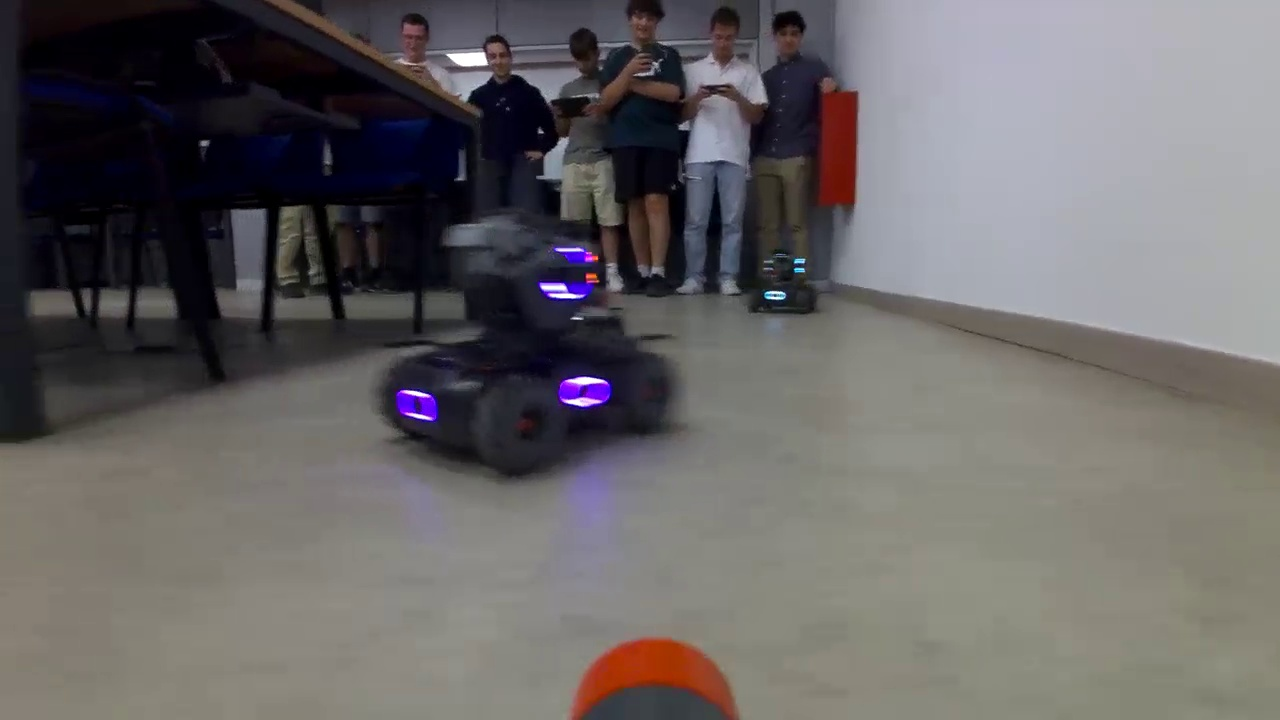robot: (373, 255, 693, 490), (735, 245, 828, 327)
